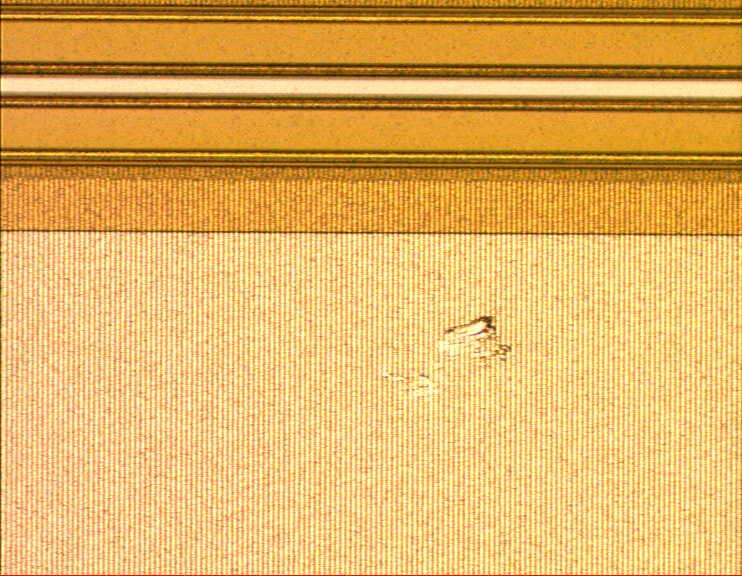SCRATCH: (378, 311, 522, 399)
